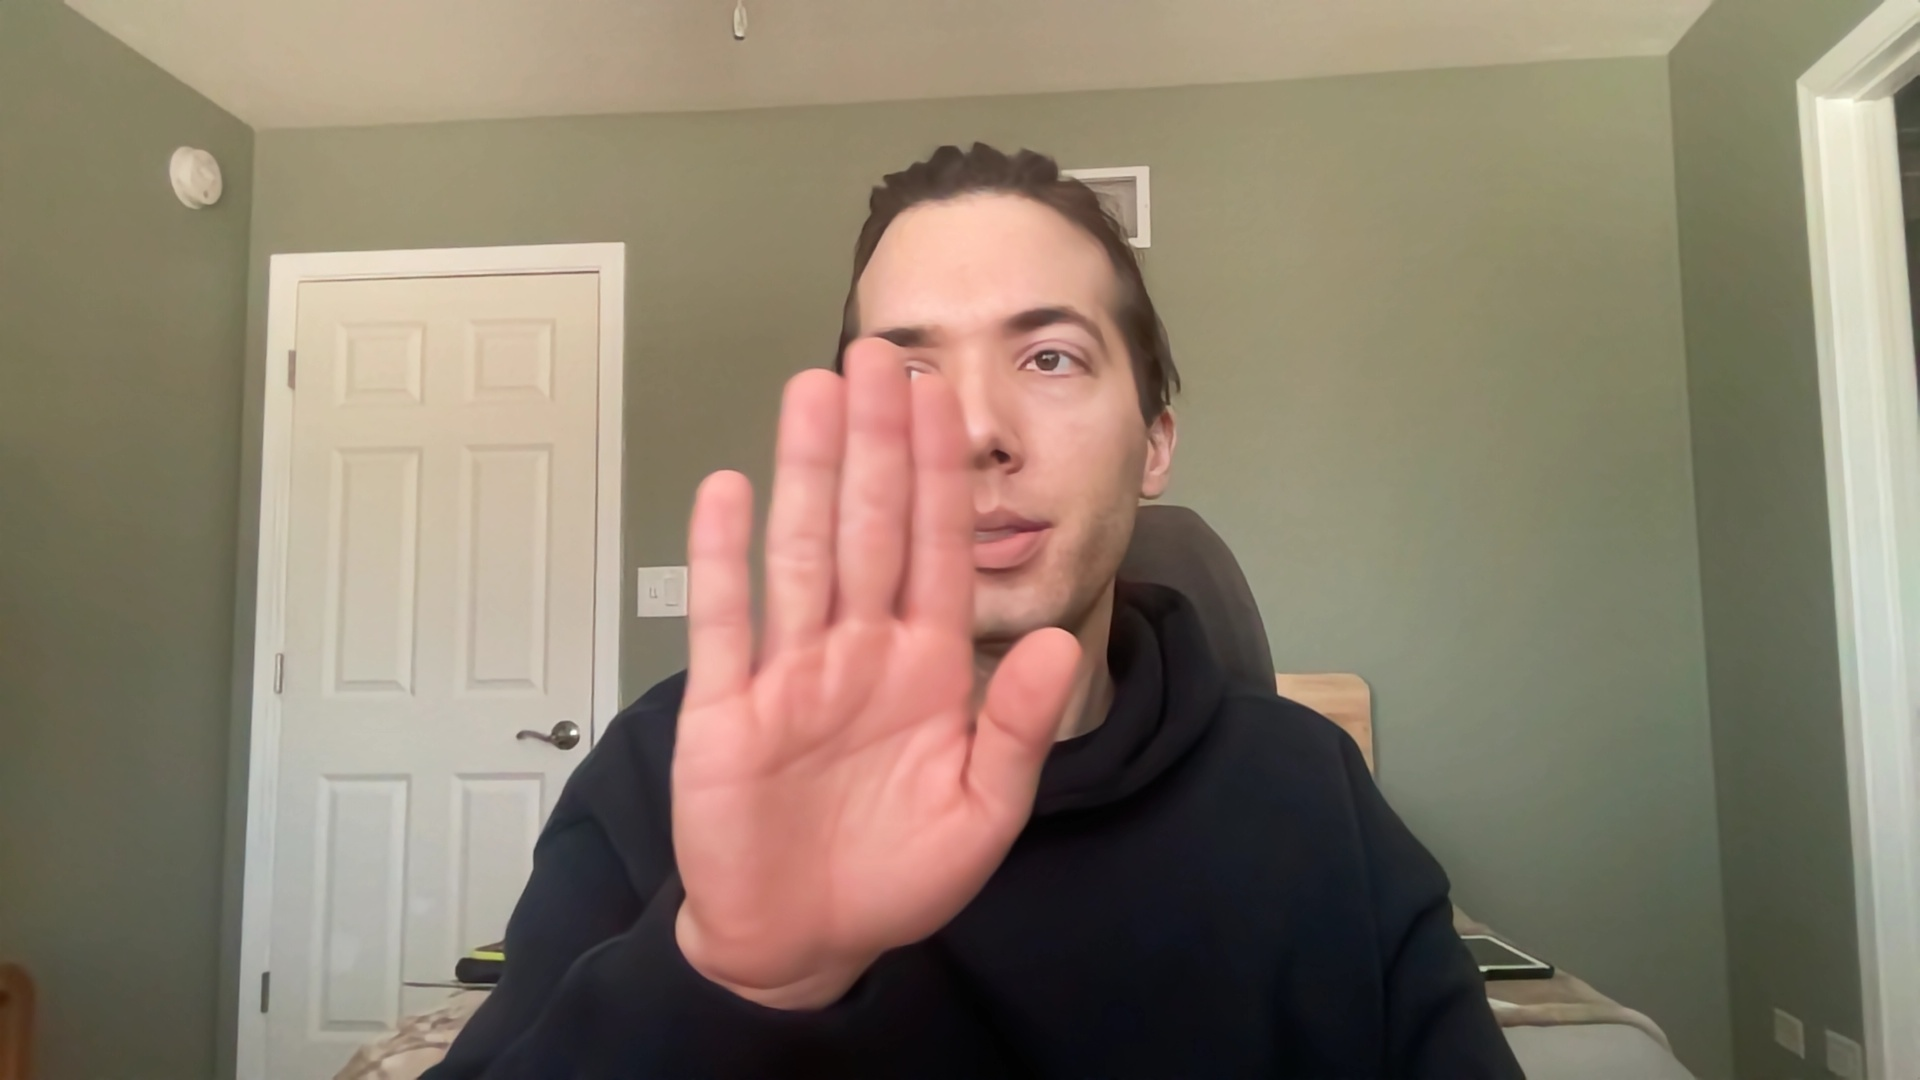Hello: (649, 324, 1096, 1017)
